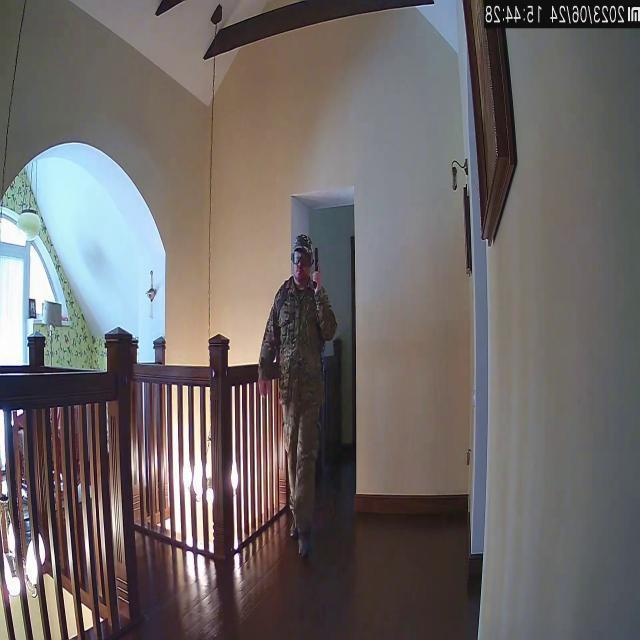pistol: (311, 243, 321, 289)
